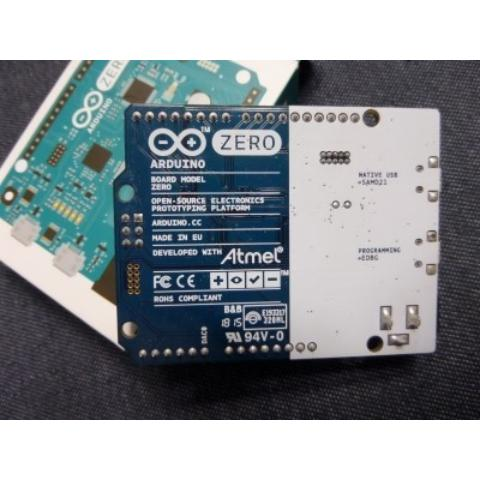Arduino-Zero: (113, 92, 450, 371)
